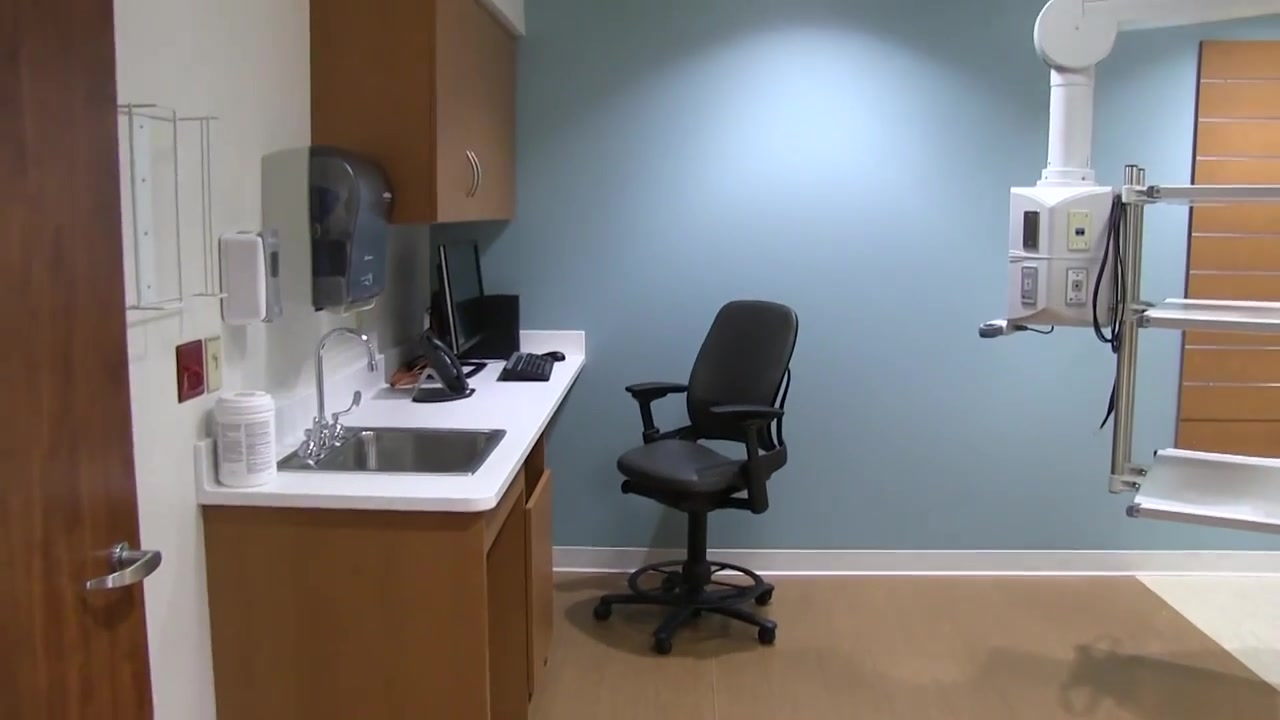cabinet: (308, 2, 521, 227)
chair: (594, 300, 798, 656)
computer: (437, 237, 490, 355)
countertop: (224, 342, 589, 498)
dispenser: (305, 147, 393, 315), (217, 232, 285, 328)
door_handle: (81, 541, 164, 594)
drawer: (204, 490, 541, 720)
faucet: (296, 329, 378, 458)
handle: (464, 146, 483, 197)
keyboard: (505, 351, 555, 383)
light_switch: (201, 337, 227, 393)
mouse: (540, 351, 566, 361)
sink: (271, 424, 506, 479)
telephone: (423, 329, 467, 395)
